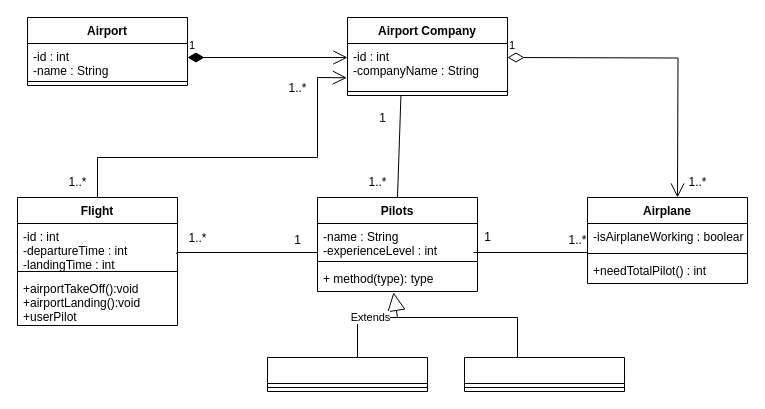
This 765x409 diagram has some shape labels left out. Here are the shapes that lost their labels. From the top down, the centre of each, then its label:
At pixel 347 374: "First Pilot".
At pixel 544 374: "Co-Pilot".
